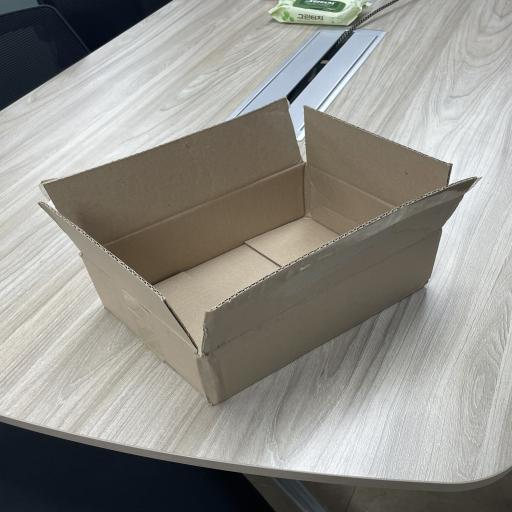box: (38, 97, 482, 407)
opened: (39, 97, 482, 355)
